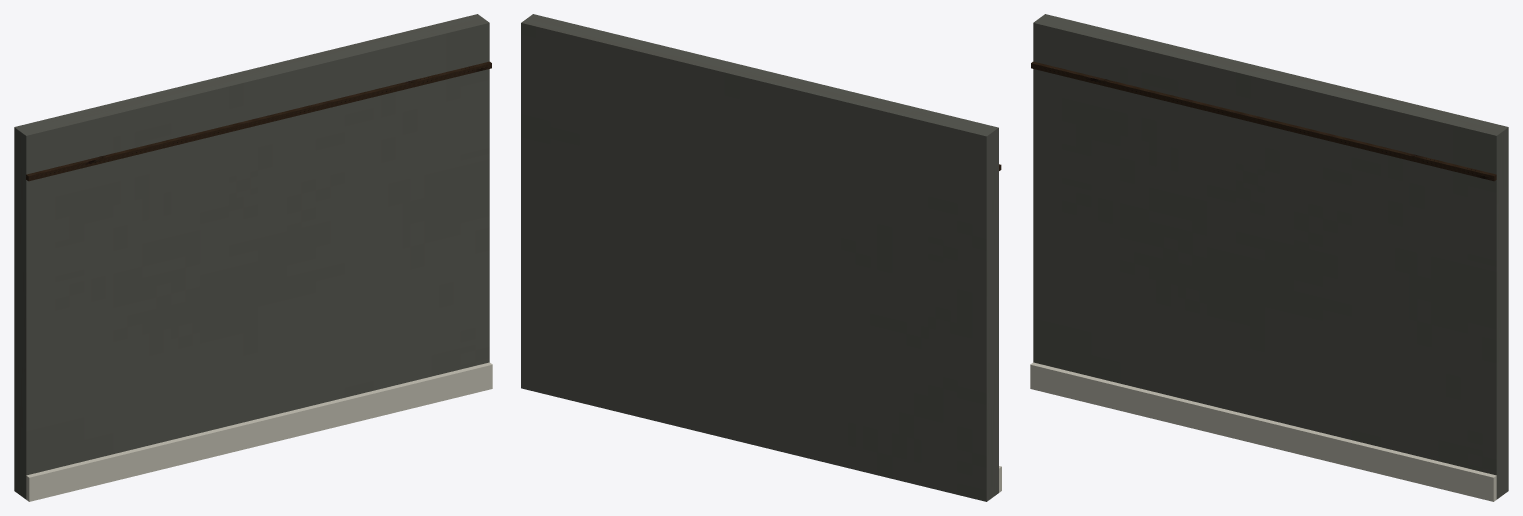
File: wall-4m.glb
3 renders of one model, left to right at view 1: azimuth 30°, elevation 25°; view 2: azimuth 150°, elevation 25°; view 3: azimuth 330°, elevation 25°, orthographic.
Parts seen in each view (by area): view 1: Plaster, Skirting.004, Picture rail; view 2: Plaster; view 3: Plaster, Skirting.004, Picture rail.
Boxes of the visible parts, <box> form: Plaster: <box>14,14,489,499</box>; Skirting.004: <box>26,362,492,501</box>; Picture rail: <box>26,61,491,181</box>; Plaster: <box>521,14,998,501</box>; Plaster: <box>1033,14,1508,499</box>; Skirting.004: <box>1030,362,1496,501</box>; Picture rail: <box>1031,61,1496,181</box>.
Size of the model in its own units: 4 by 3 by 0.2255.
3 materials, 2 textured.
